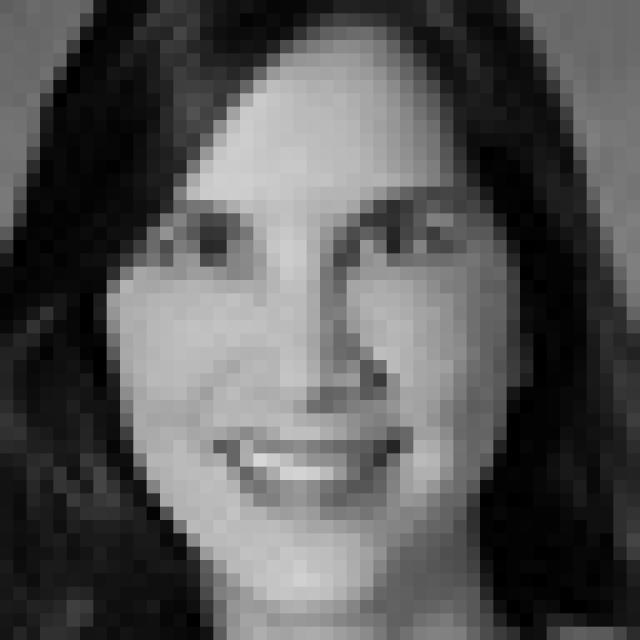happy: (143, 178, 475, 531)
